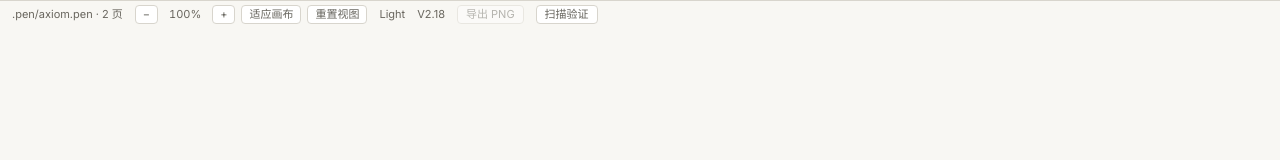
DesignCanvas 无限画布 › 缩放按钮与重置视图在上下限内取值
Expected: the text "100%" is shown, x1=169 y1=7 x2=201 y2=21
Click the button named "放大". click: (224, 15)
box: x1=212 y1=5 x2=235 y2=24
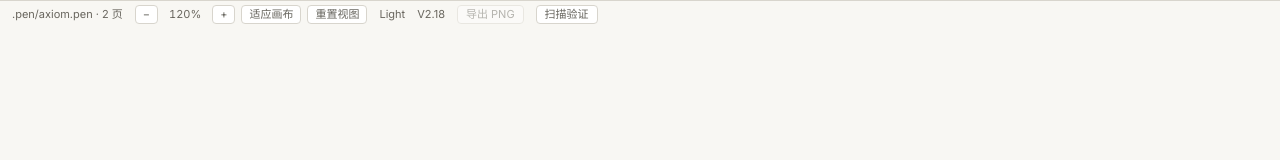
Result: the text "120%" is shown at x1=169 y1=7 x2=201 y2=21
Click the button named "缩小". click: (147, 15)
box: x1=135 y1=5 x2=158 y2=24
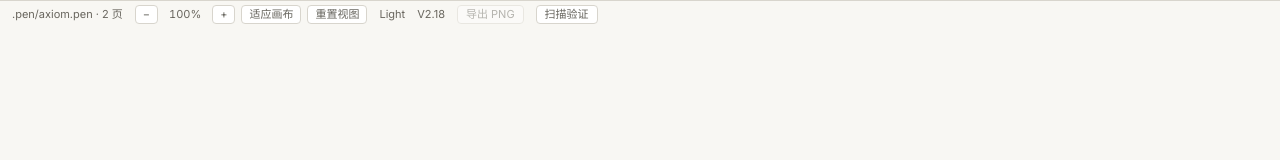
Click the button named "缩小". click: (147, 15)
box: x1=135 y1=5 x2=158 y2=24
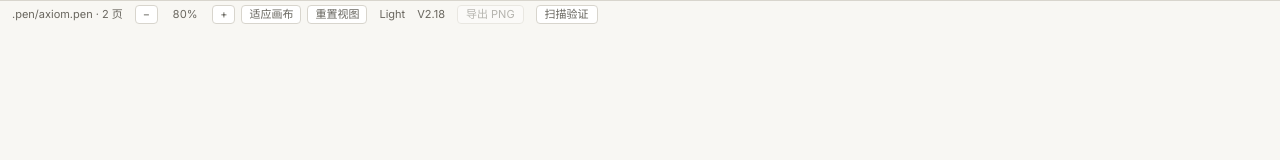
Result: the text "80%" is shown at x1=173 y1=7 x2=198 y2=21
Click the button "重置视图". click: (337, 15)
box: x1=307 y1=5 x2=367 y2=24
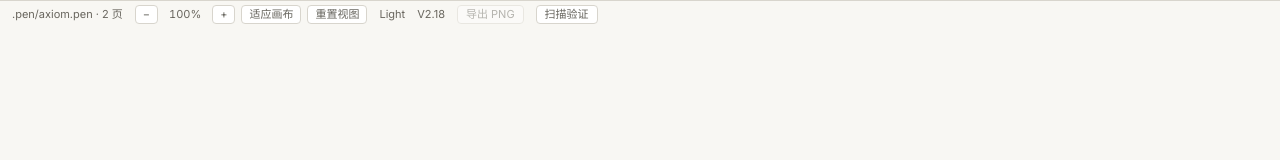
Result: the text "100%" is shown at x1=169 y1=7 x2=201 y2=21
